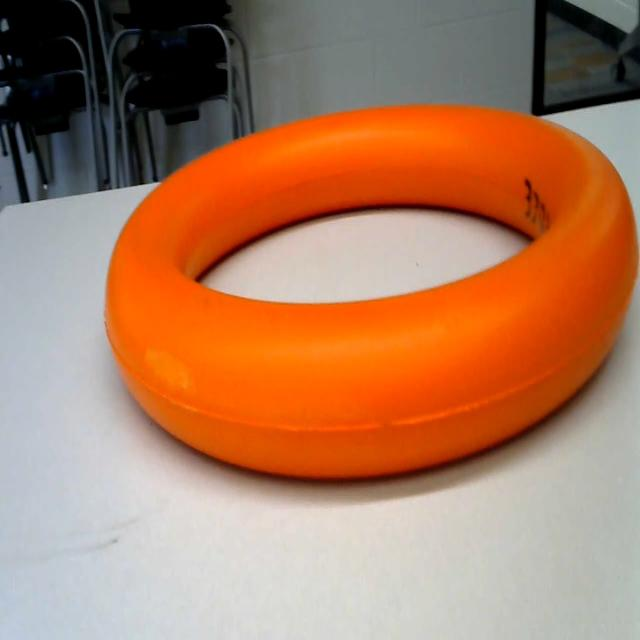note: (83, 99, 640, 548)
